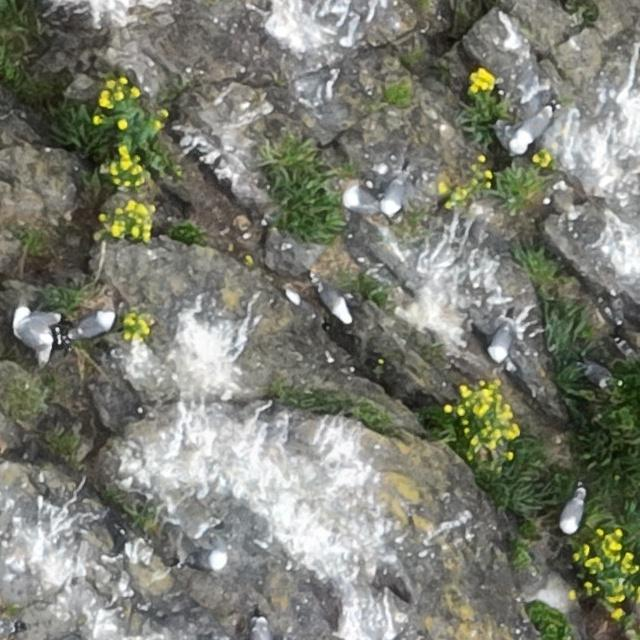umineko: (10, 307, 56, 365), (316, 280, 354, 324), (341, 189, 390, 220), (520, 106, 558, 142), (492, 124, 530, 158), (72, 310, 113, 336), (188, 548, 228, 574), (561, 493, 586, 533), (383, 178, 408, 213), (492, 325, 512, 362), (582, 363, 608, 387), (251, 619, 266, 639)
